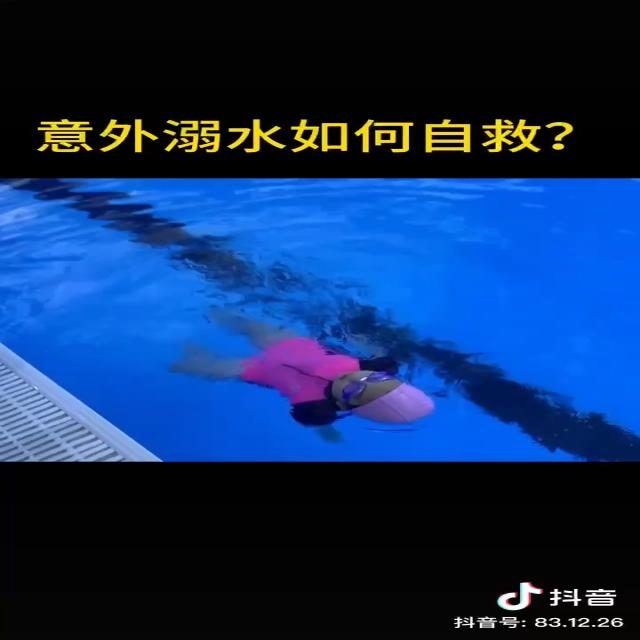Drowning: (175, 306, 438, 440)
